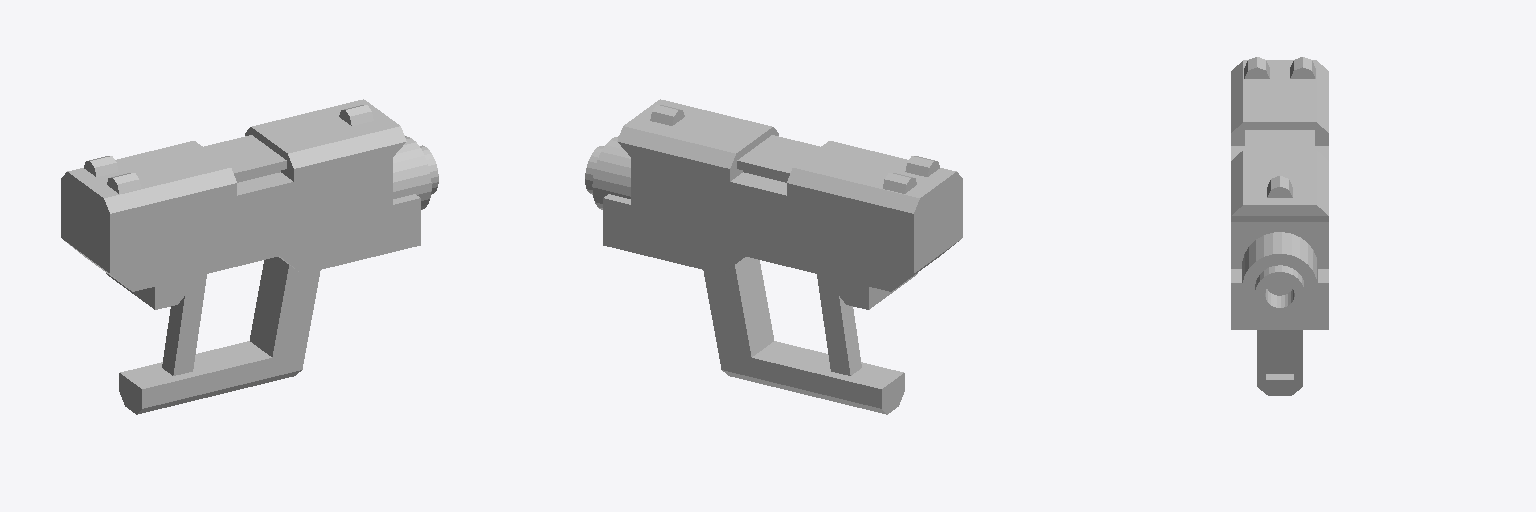
The model's file is PhaserPistol.obj.
The picture shows the model from 3 angles: view 1: azimuth 30°, elevation 25°; view 2: azimuth 150°, elevation 25°; view 3: azimuth 270°, elevation 25°; orthographic projection.
Size of the model in its own units: 6.03 by 4.2 by 1.5.